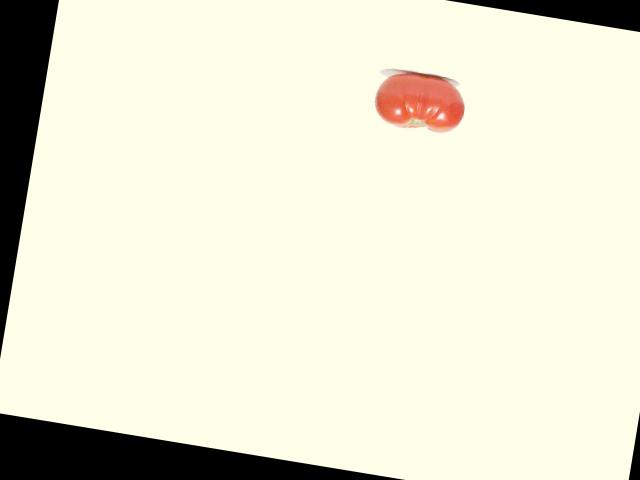tomato: (372, 68, 469, 137)
